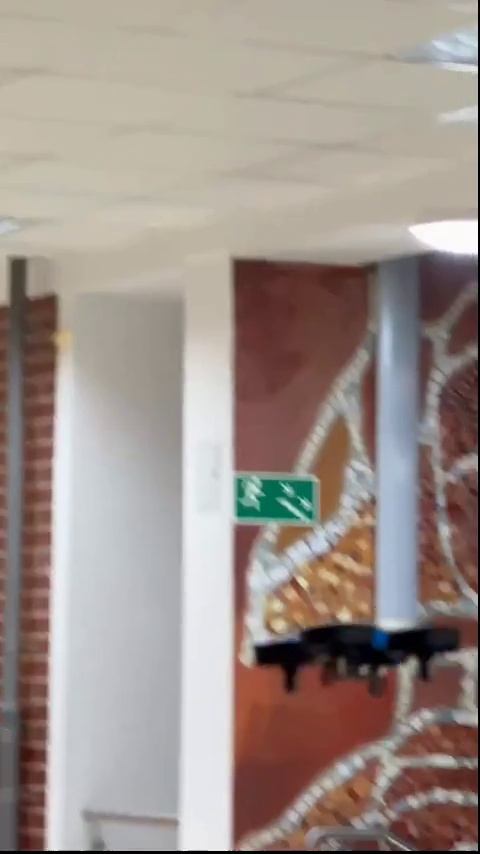drone: (258, 614, 455, 694)
